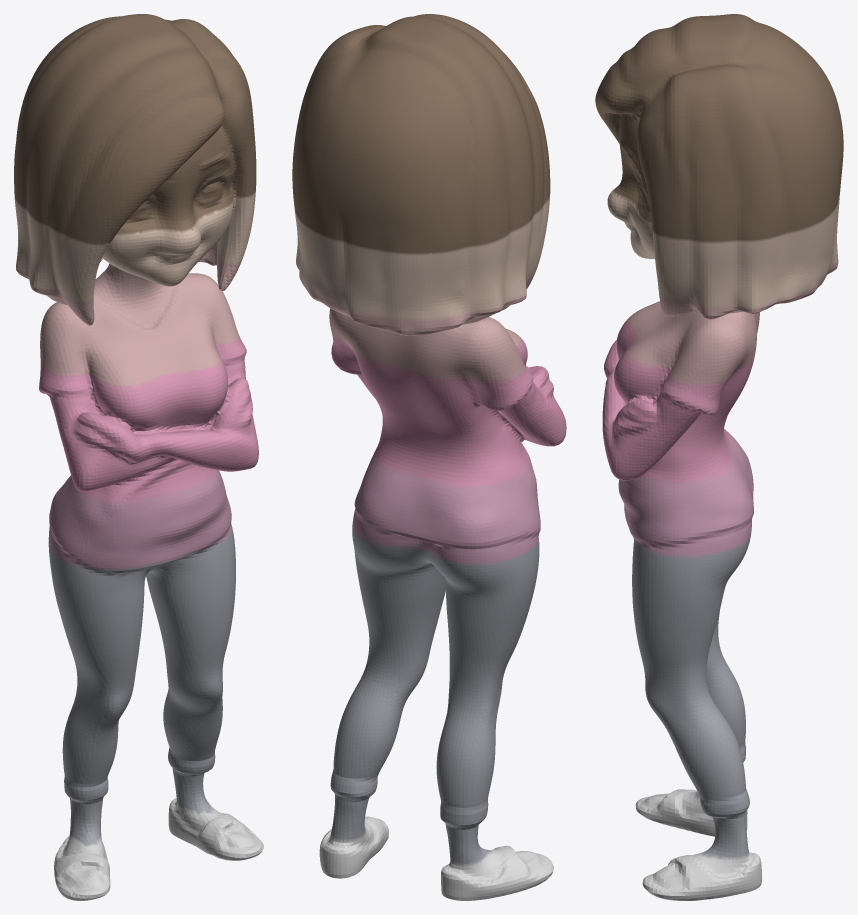
Rendered from ana_hunyuan.glb.
3 views of the same model, side by side, from view 1: azimuth 30°, elevation 25°; view 2: azimuth 150°, elevation 25°; view 3: azimuth 270°, elevation 25° (orthographic). The views are drawn at different scales.
Parts seen in each view (by area): view 1: world; view 2: world; view 3: world.
Part boxes in pixels (left/top/right/bottom): world: left=14, top=14, right=263, bottom=900; world: left=292, top=14, right=566, bottom=900; world: left=595, top=14, right=843, bottom=900.
Size of the model in its own units: 0.5145 by 1.96 by 0.5307.
